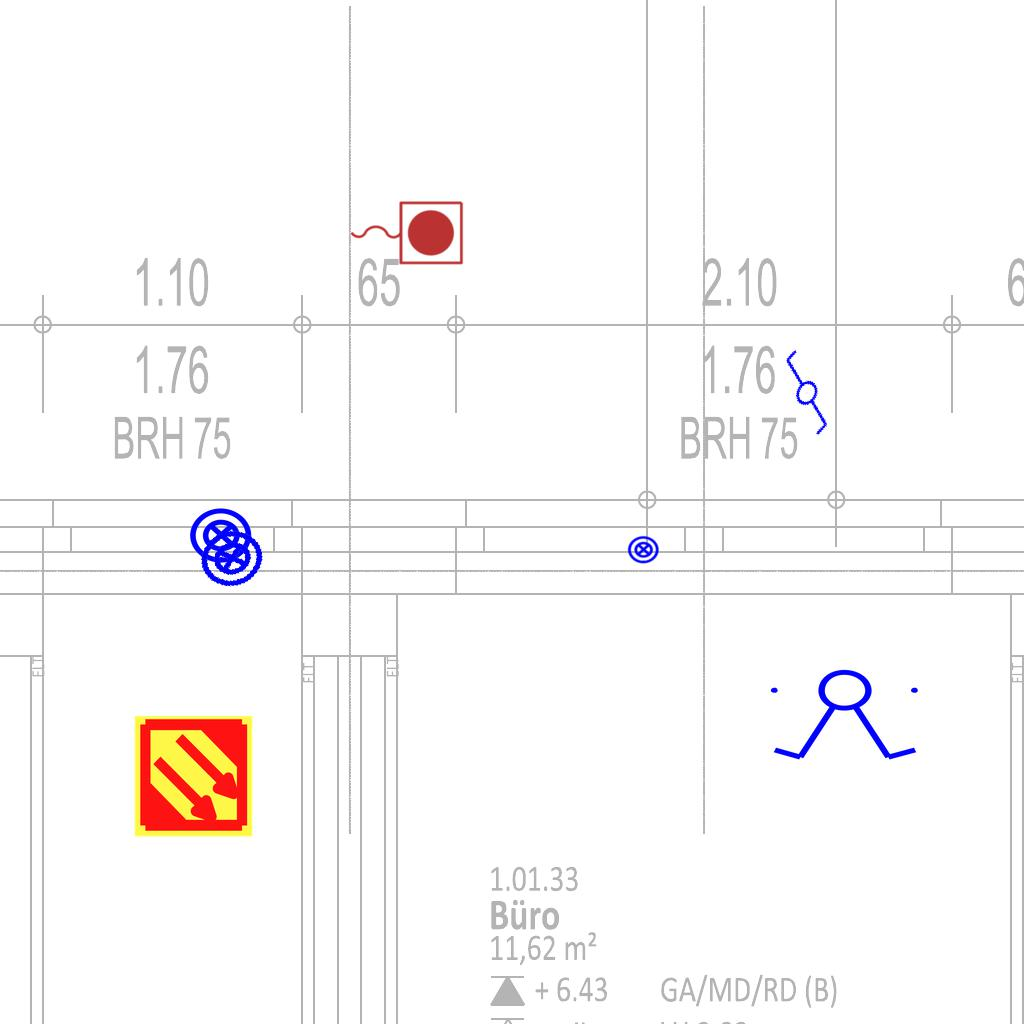ASR_Ansaugrauchmelder: (131, 714, 256, 839)
Serienschalter: (762, 668, 930, 764)
Taster_beleuchtet: (191, 517, 273, 599), (188, 502, 254, 568), (627, 533, 660, 566)
Wechselschalter: (754, 344, 854, 448)
Zugtaster: (345, 196, 467, 268)
